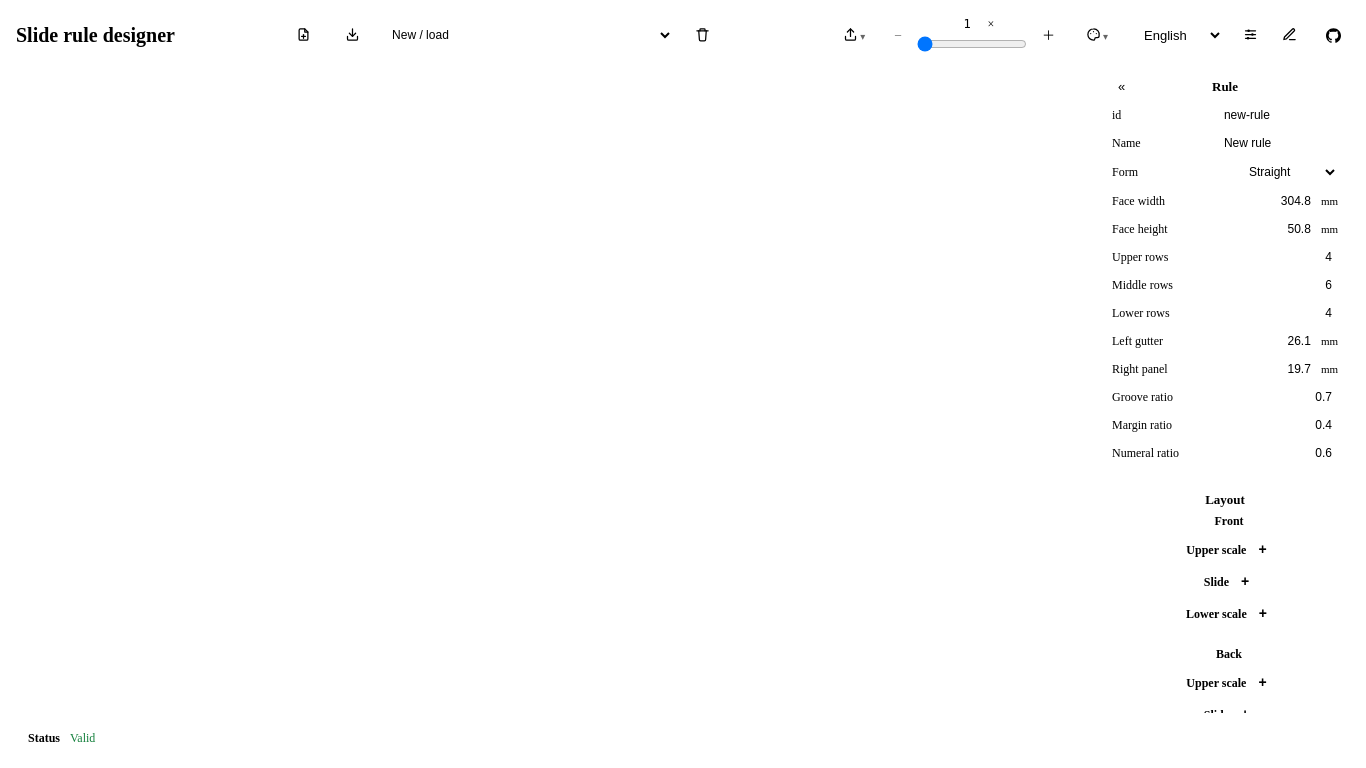
DesignerView › shows validation errors when the physical width is zero
Step 1. Select "1002 Vector Log-Log Double-Sided Slide Rule" in the dropdown with test id "new-select" → x=528, y=35, box [382,23,673,47]
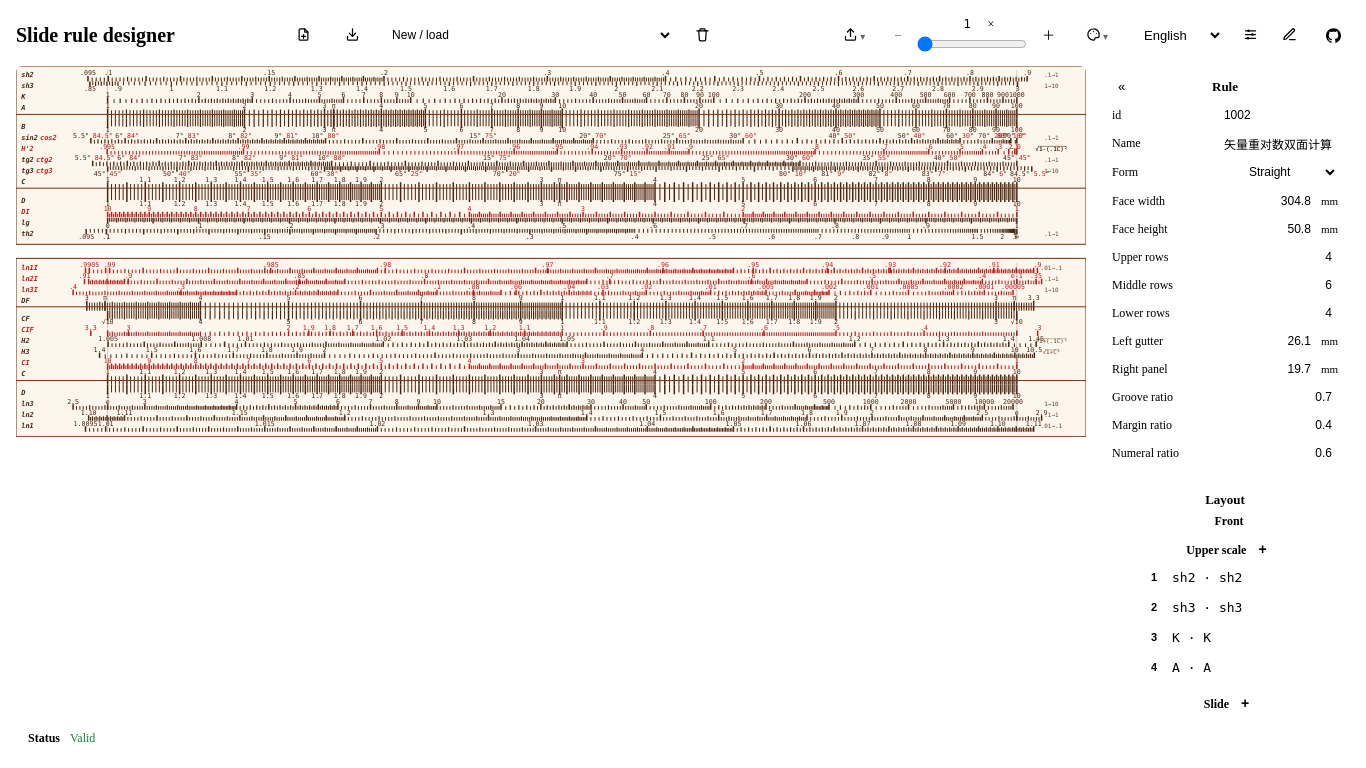
Step 2. Replace the text in the number field with test id "face-width" with "0" → x=1290, y=201, box [1264,190,1317,212]
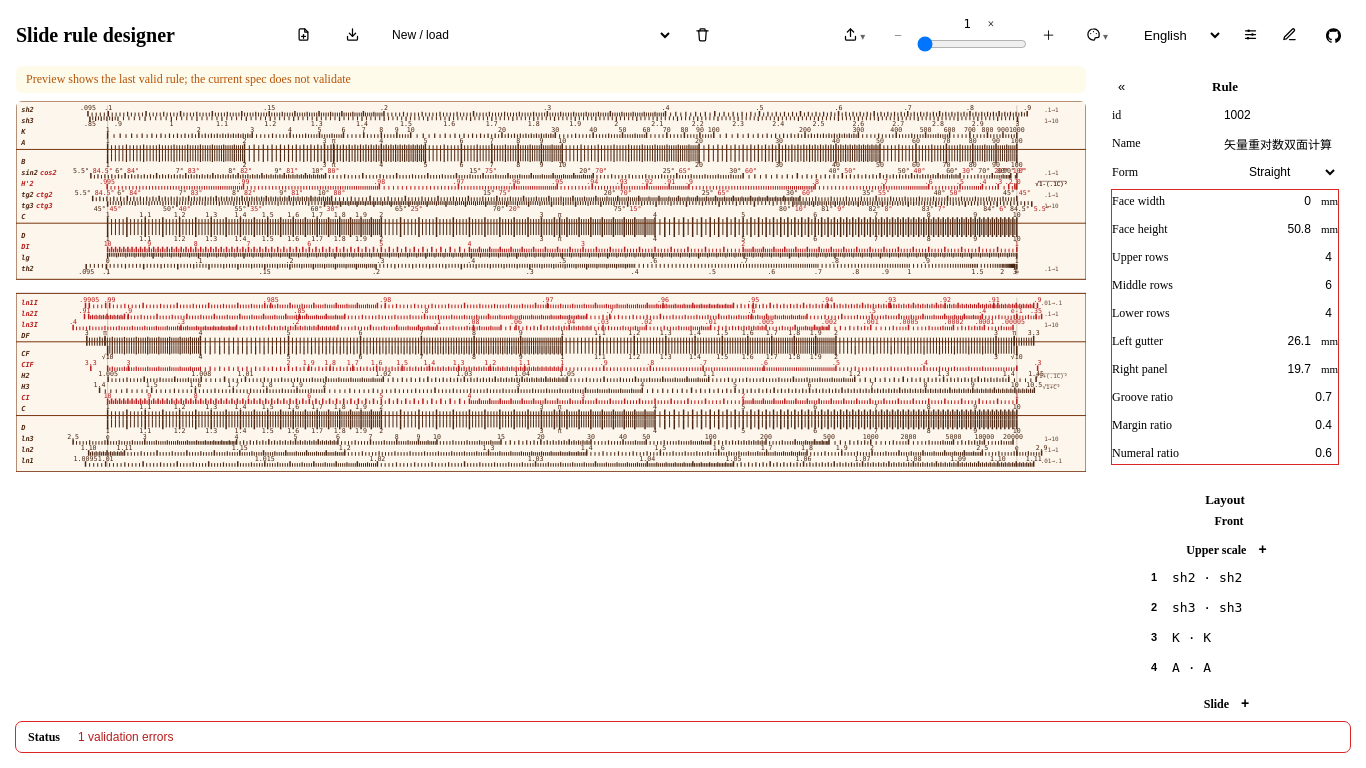
Now the button with class "designer-status-toggle" is shown
Step 3. Click the button with class "designer-status-toggle" → x=126, y=737, box [70,728,181,746]
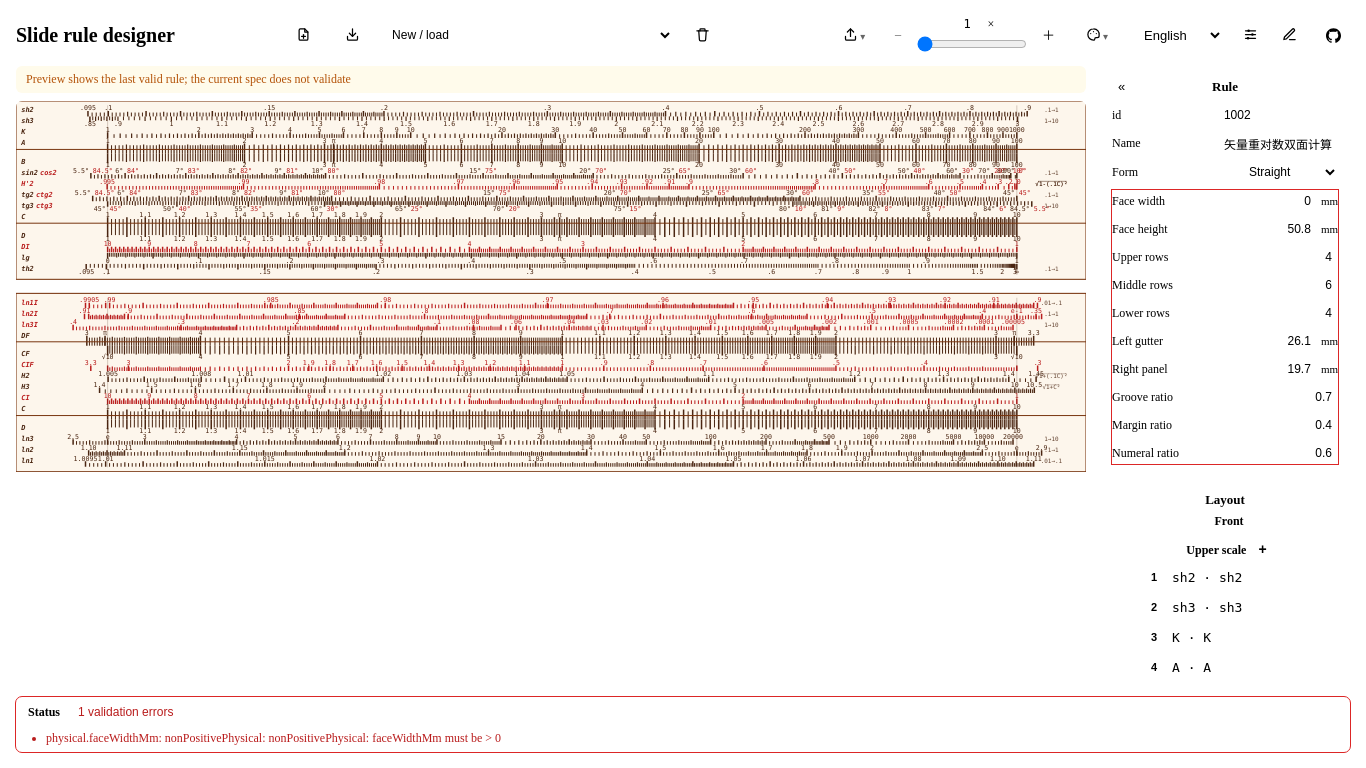
Now the list with class "designer-errors" is shown, box [46,731,501,745]
